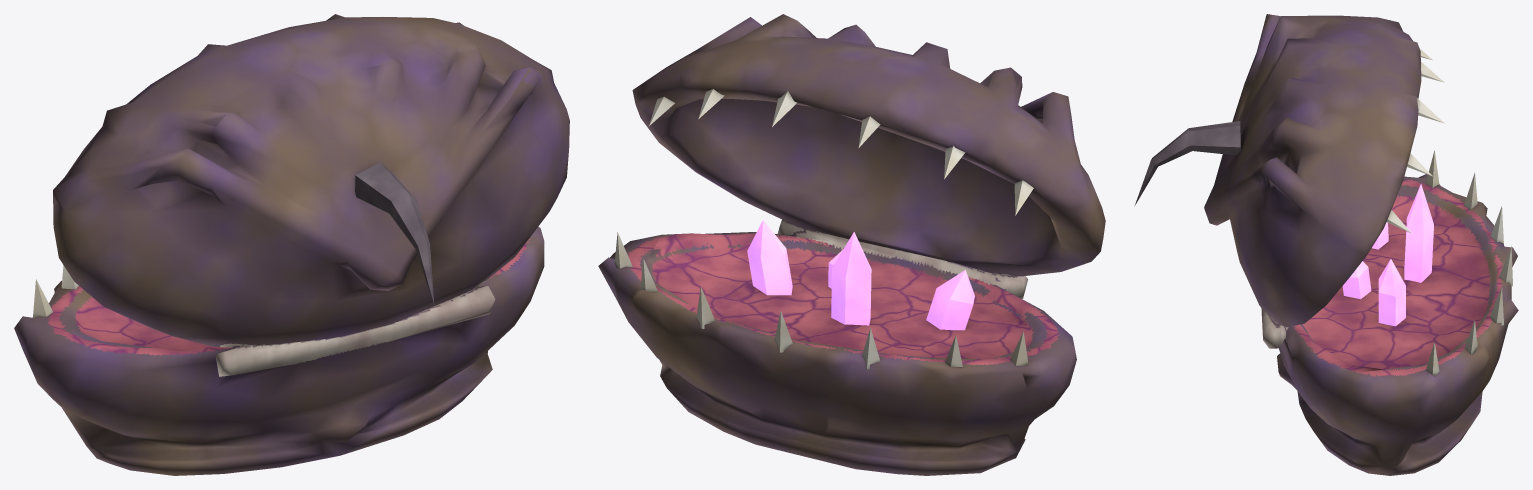
File: cofre_organico.fbx
3 views of the same model, side by side, from view 1: azimuth 30°, elevation 25°; view 2: azimuth 150°, elevation 25°; view 3: azimuth 270°, elevation 25° (orthographic). The views are drawn at different scales.
Visible parts, largest first — view 1: tapa, base; view 2: tapa, base, tesoro_neon; view 3: tapa, base, tesoro_neon.
Part boxes in pixels (x1,y1,x2,y2): tapa: [53, 14, 569, 347]; base: [14, 226, 544, 475]; tapa: [632, 14, 1105, 276]; base: [598, 219, 1076, 475]; tesoro_neon: [747, 220, 974, 330]; tapa: [1134, 14, 1444, 327]; base: [1261, 150, 1518, 475]; tesoro_neon: [1342, 184, 1433, 326].
Size of the model in its own units: 2 by 1.51 by 1.51.
1 material, 1 textured.
